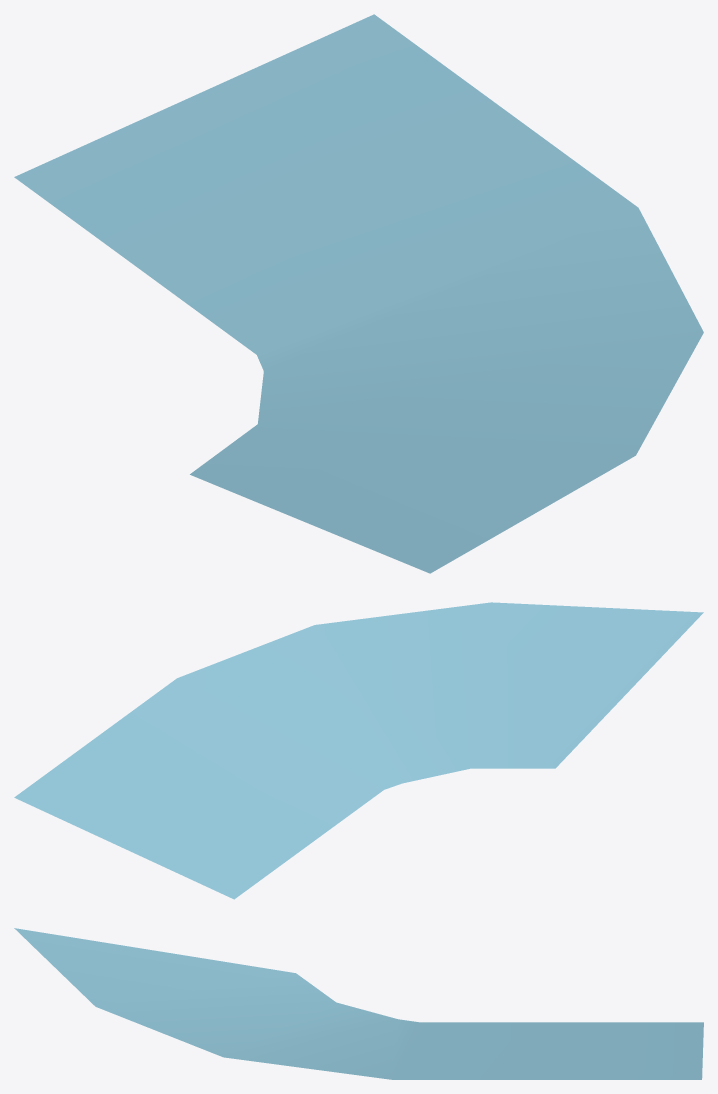
The model's file is ConsoleMatSideLarge.FBX.
3 views of the same model, one above another, from view 1: azimuth 30°, elevation 25°; view 2: azimuth 150°, elevation 25°; view 3: azimuth 270°, elevation 25° (orthographic). The views are drawn at different scales.
Visible parts, largest first — view 1: ConsoleMatSideLarge; view 2: ConsoleMatSideLarge; view 3: ConsoleMatSideLarge.
Boxes of the visible parts, x1,y1,x2,y2 form: ConsoleMatSideLarge: (14,14,703,573); ConsoleMatSideLarge: (14,602,703,899); ConsoleMatSideLarge: (14,928,703,1079).
Bounding box in the file's own units: 0.5356 × 0.0743 × 1.03.
